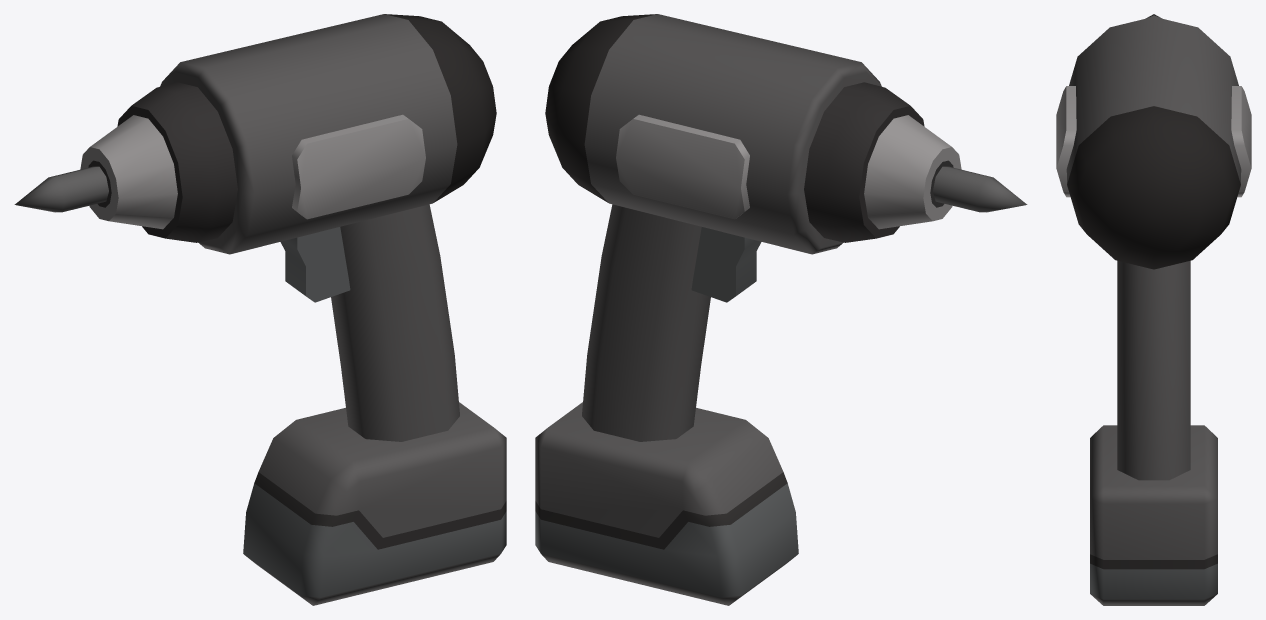
The model's file is Hand_Drill_001.fbx.
3 views of the same model, side by side, from view 1: azimuth 30°, elevation 25°; view 2: azimuth 150°, elevation 25°; view 3: azimuth 270°, elevation 25° (orthographic). The views are drawn at different scales.
Visible parts, largest first — view 1: Hand_Drill_001; view 2: Hand_Drill_001; view 3: Hand_Drill_001.
Boxes of the visible parts, x1=… form: Hand_Drill_001: x1=14, y1=14, x2=506, y2=605; Hand_Drill_001: x1=535, y1=14, x2=1027, y2=605; Hand_Drill_001: x1=1056, y1=14, x2=1251, y2=605.
Size of the model in its own units: 31.61 by 12.91 by 34.79.
